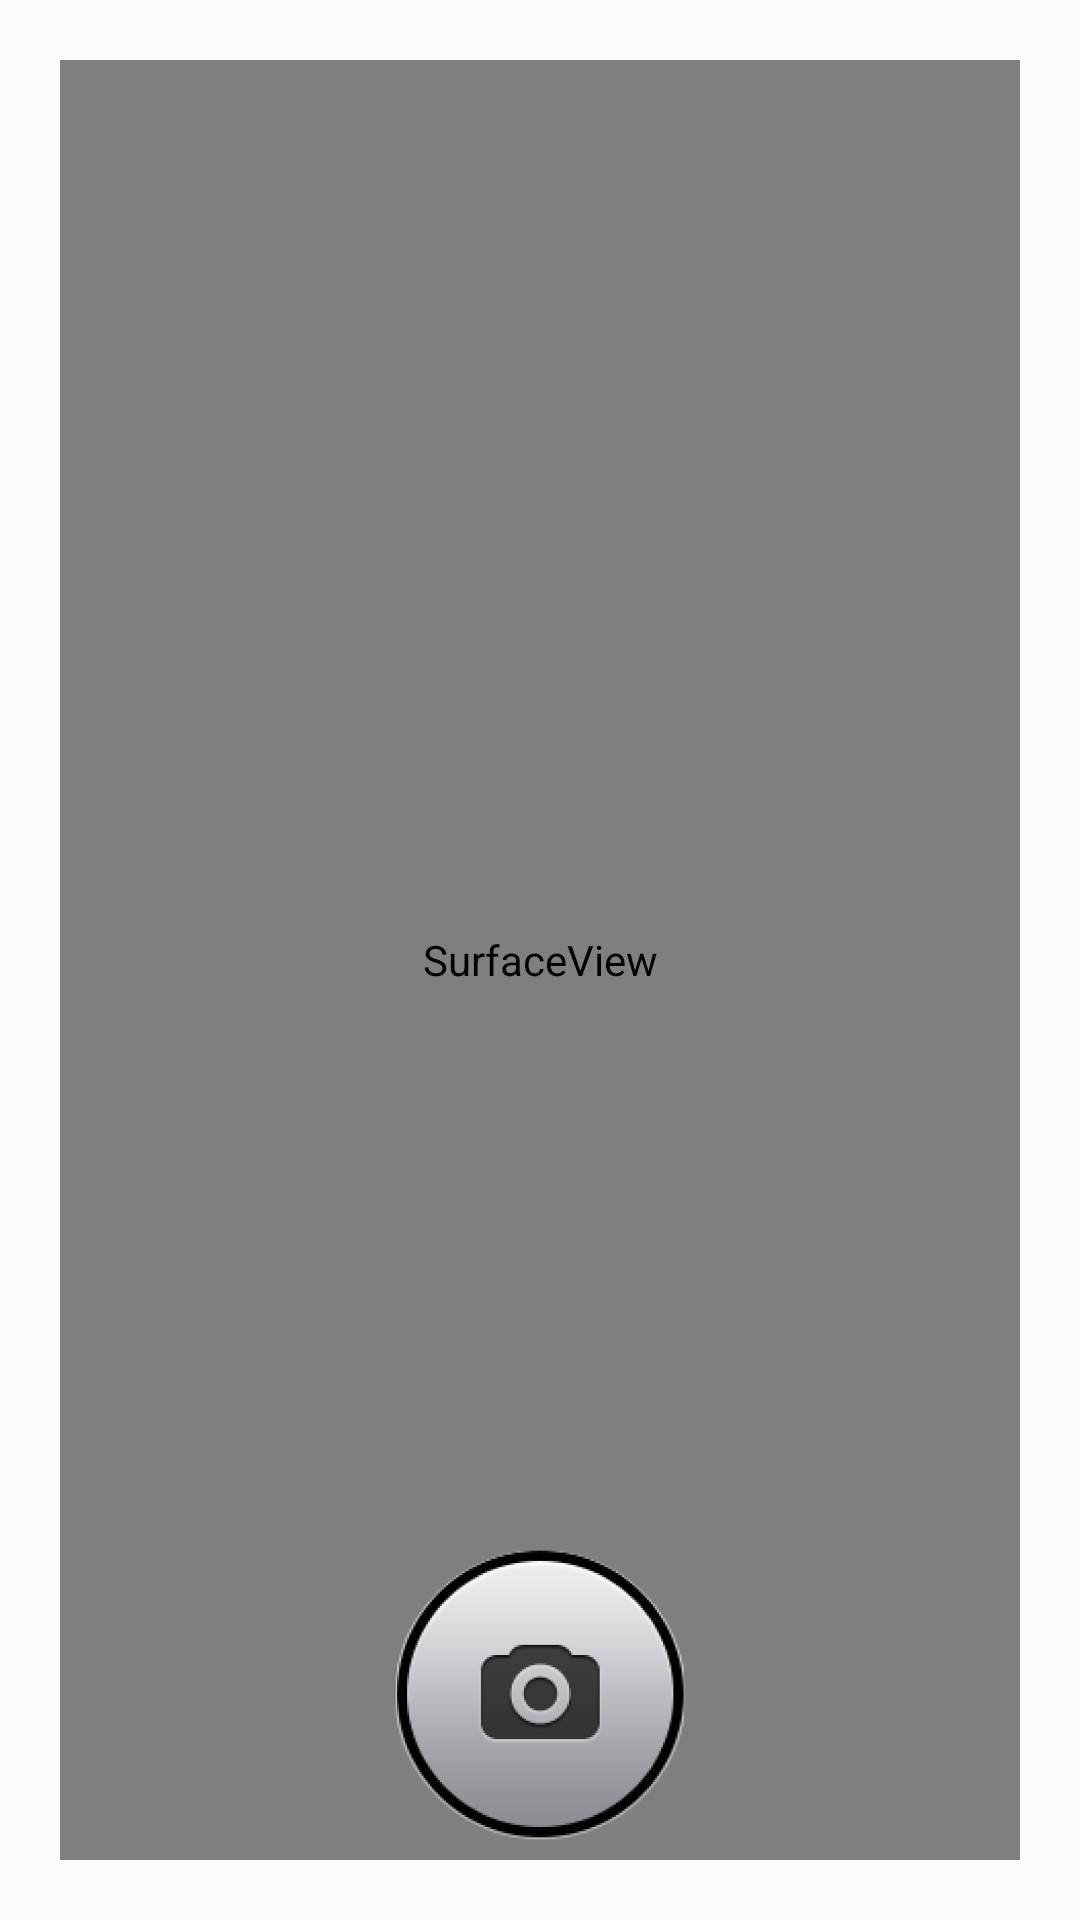

Named icons in this screenshot (1080 x 1920) and their centers, point (x, y):
camera: point (540, 1694)
